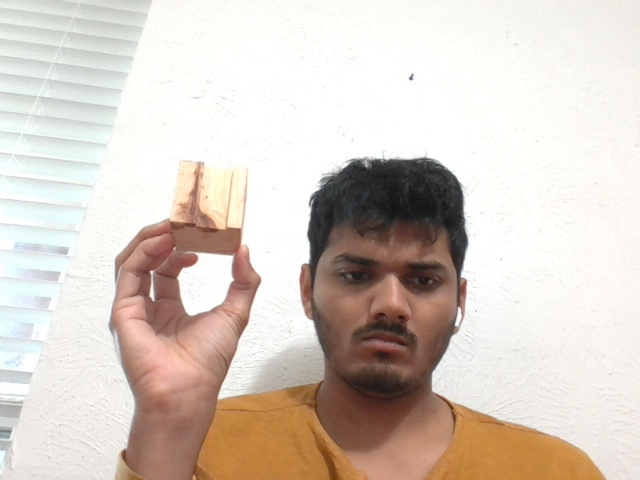NormalBlock: (168, 158, 247, 255)
